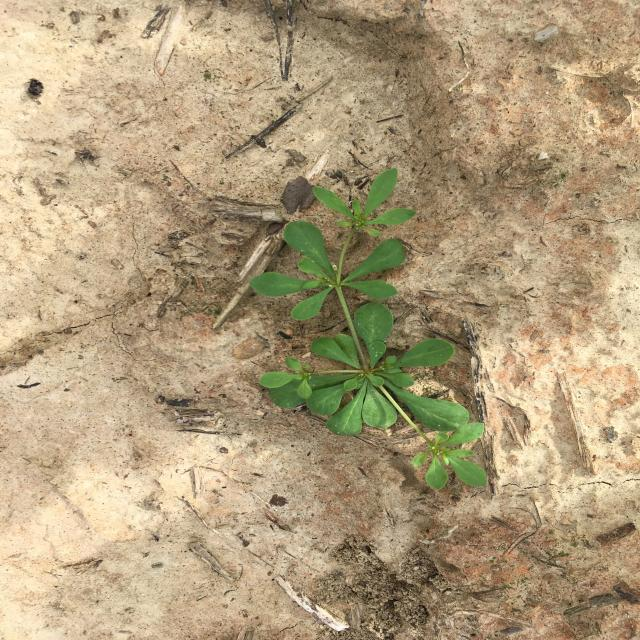Carpetweed: (249, 168, 487, 490)
